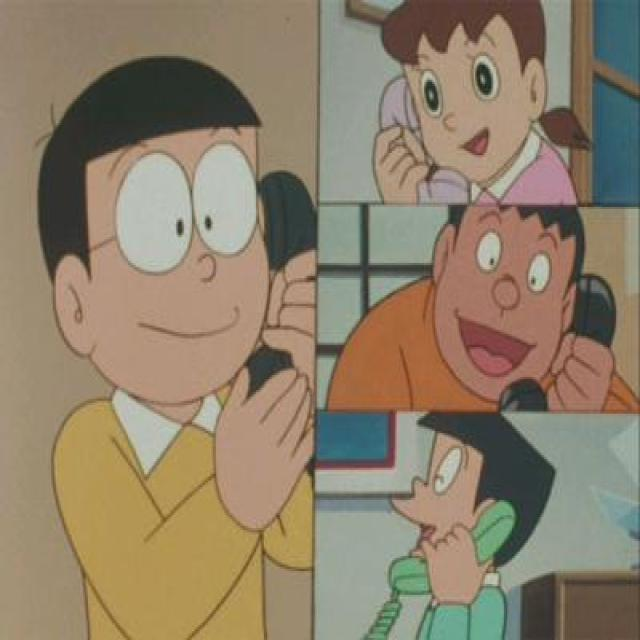jaian: (421, 192, 587, 405)
nobita: (32, 48, 294, 436)
suneo: (384, 401, 563, 588)
